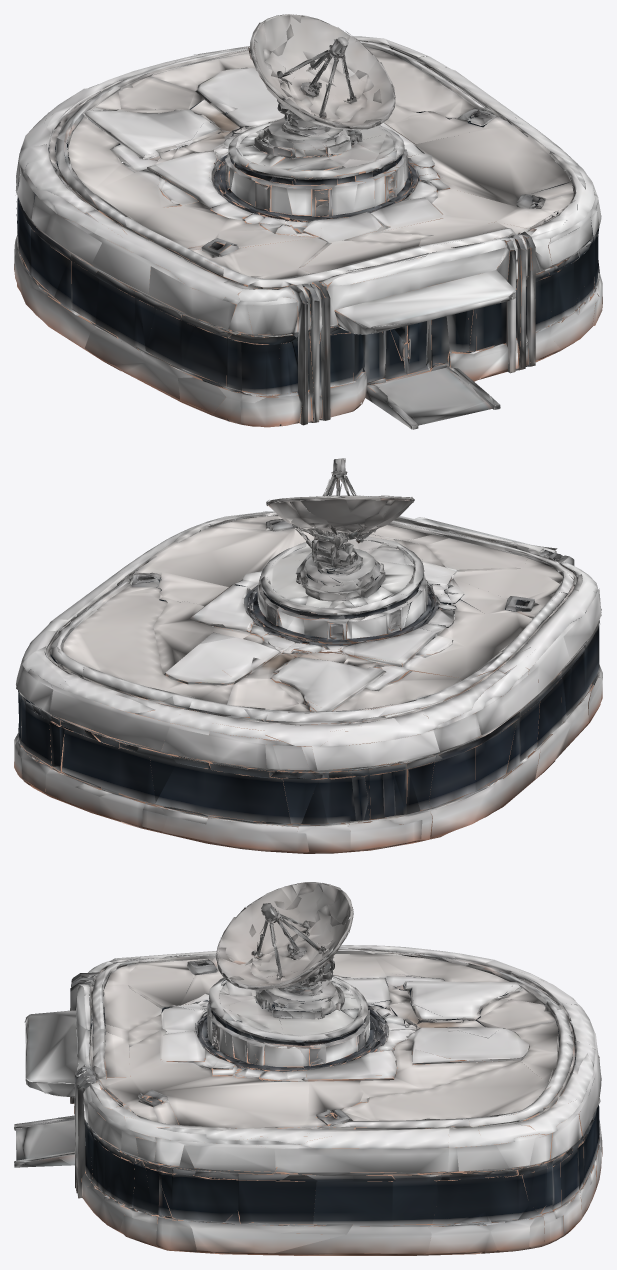
File: mission.glb
3 views of the same model, one above another, from view 1: azimuth 30°, elevation 25°; view 2: azimuth 150°, elevation 25°; view 3: azimuth 270°, elevation 25° (orthographic). The views are drawn at different scales.
Parts seen in each view (by area): view 1: LO.001; view 2: LO.001; view 3: LO.001.
Part boxes in pixels (left/top/right/bottom): LO.001: left=14, top=14, right=602, bottom=429; LO.001: left=14, top=458, right=602, bottom=853; LO.001: left=14, top=882, right=602, bottom=1255.
Size of the model in its own units: 24.02 by 13.82 by 29.03.
1 material, 1 textured.
